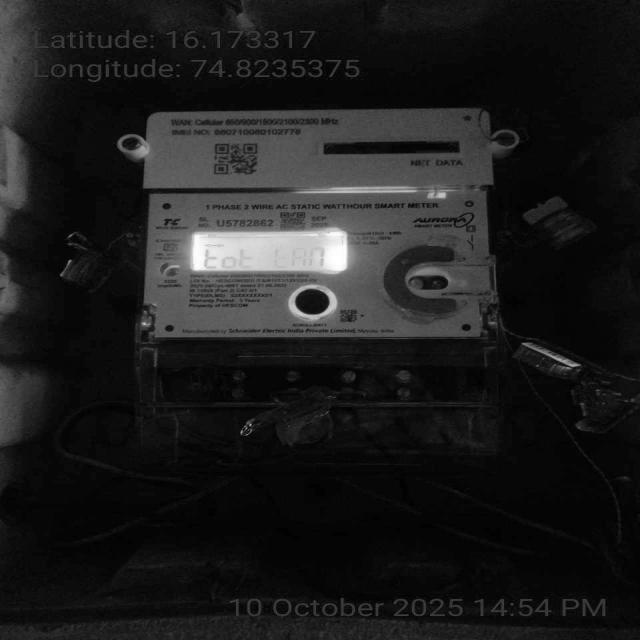meter: (146, 108, 504, 345)
